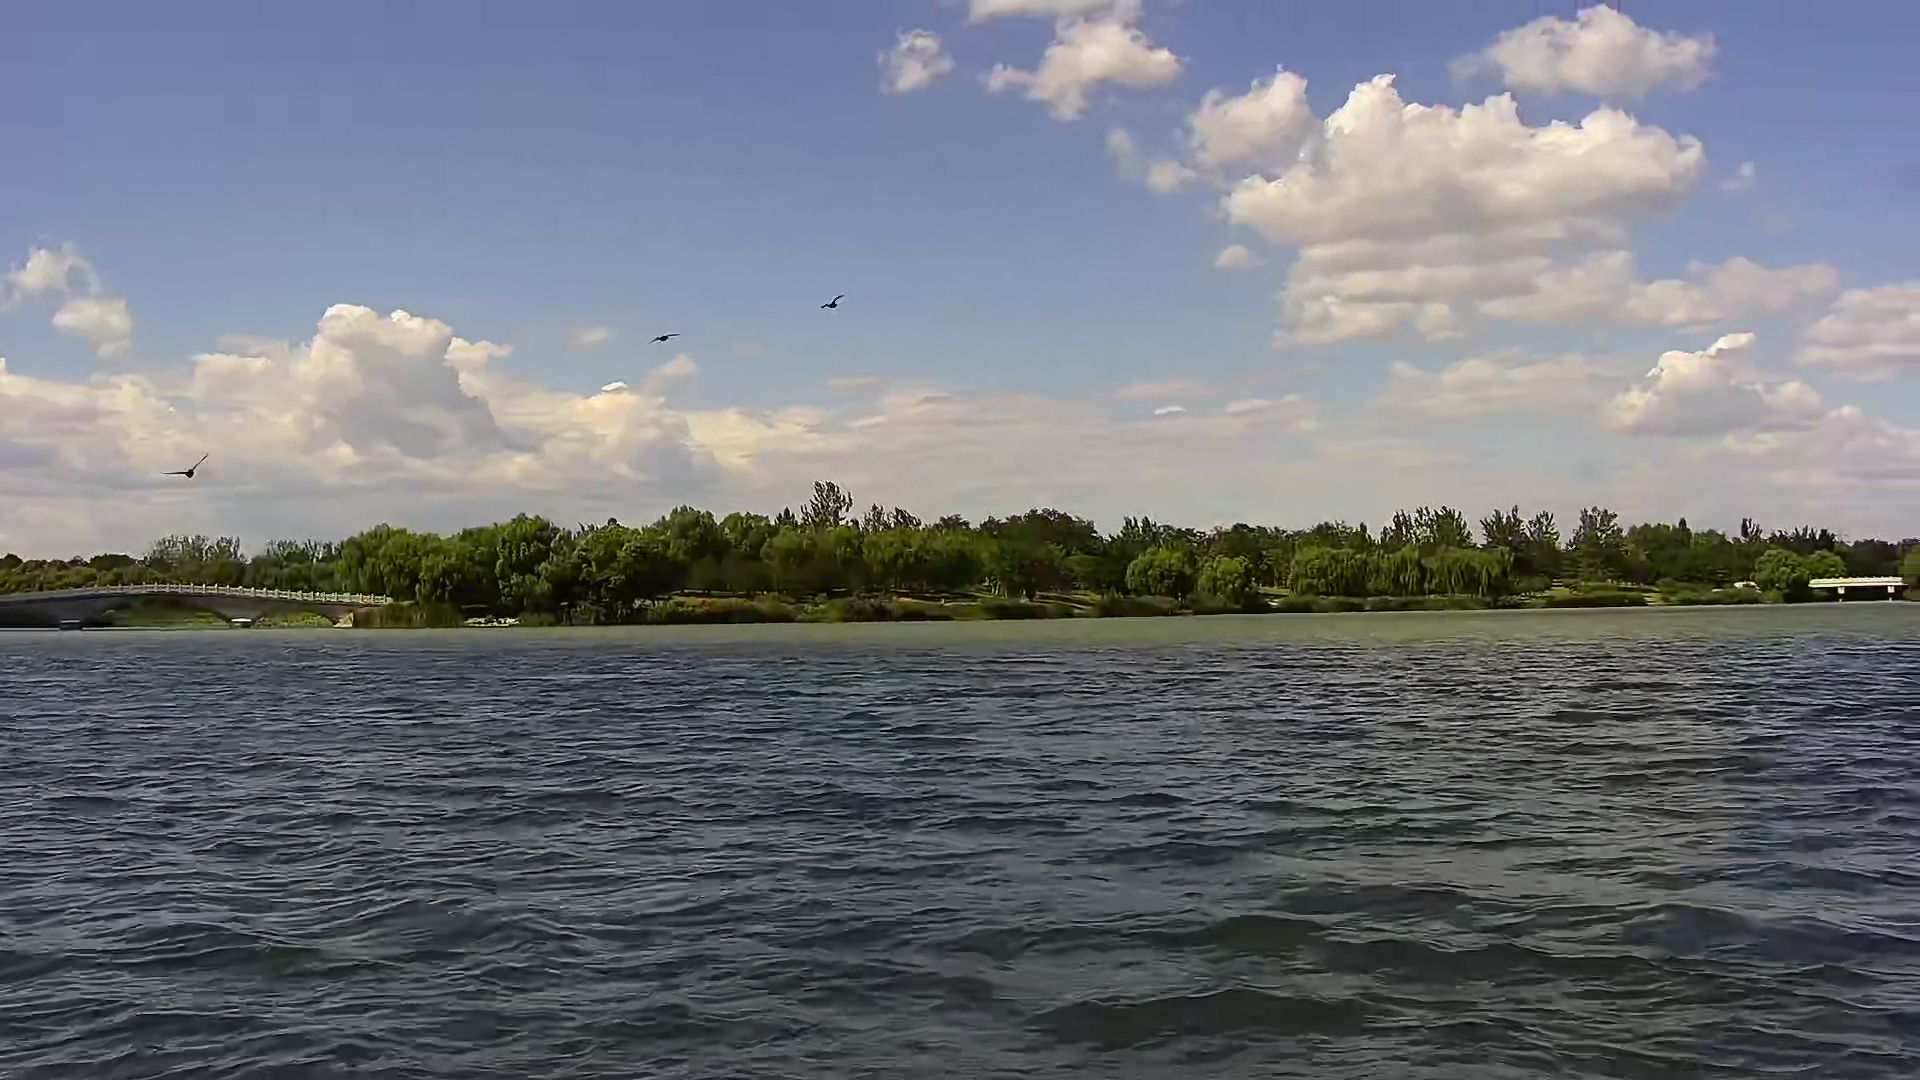bridge: (1, 582, 385, 636), (1811, 568, 1904, 612)
